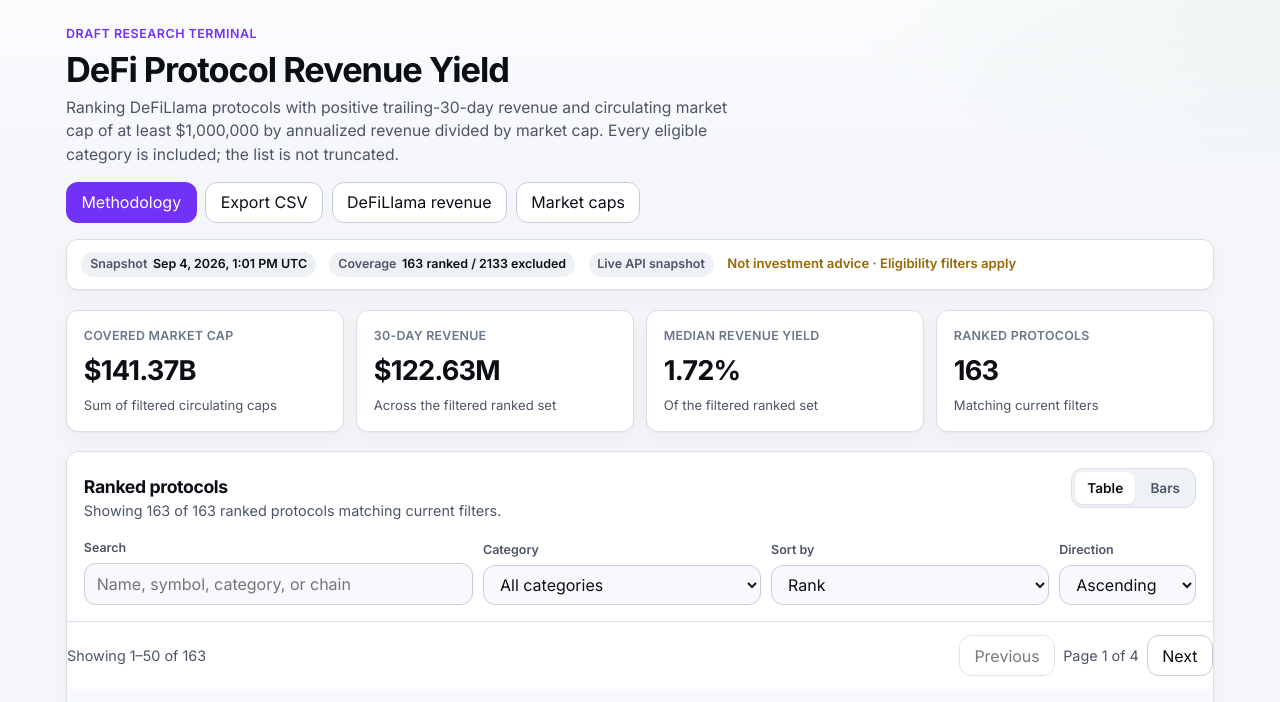
Scenario: App dashboard › applies default sort direction from the sort select
Expected: the text "Live API snapshot" is shown, [588,252,714,277]
Select "Revenue yield" in the dropdown labelled "Sort by" at point(910, 585), box [771,565,1049,605]
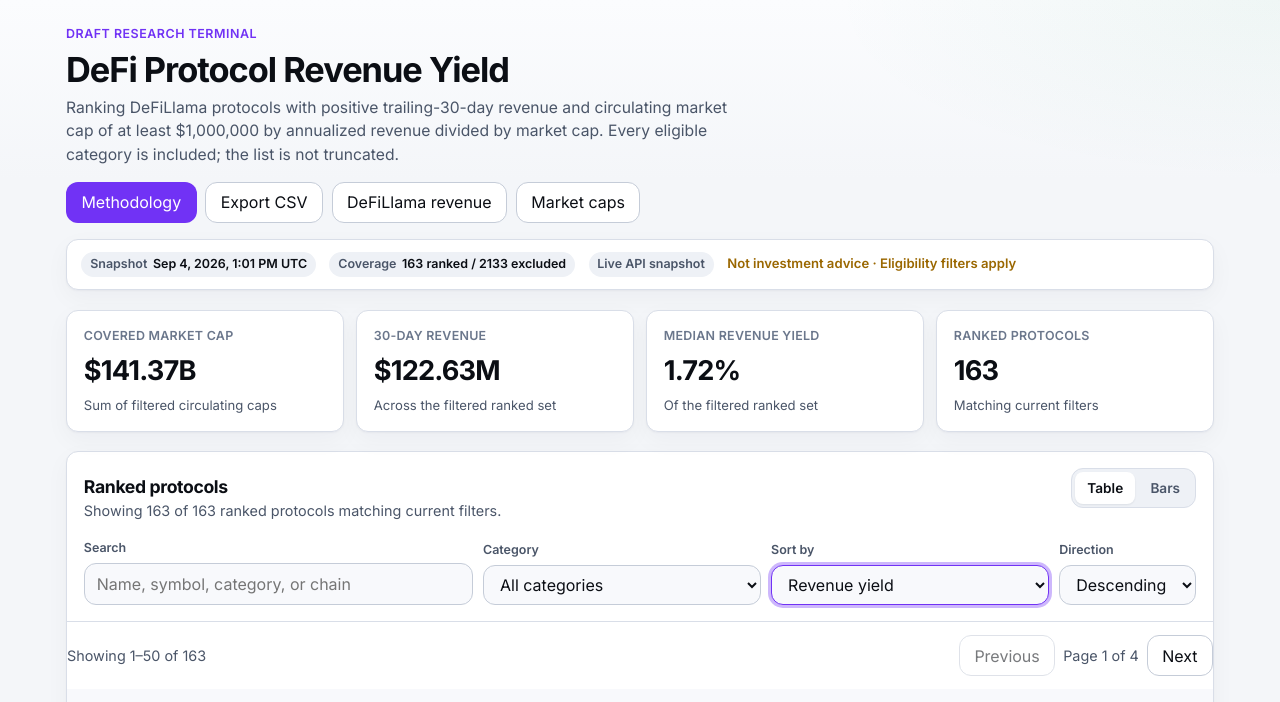
Result: the dropdown labelled "Direction" shows "Descending" at [1059,565,1196,605]
Select "Name" in the dropdown labelled "Sort by" at point(910, 585), box [771,565,1049,605]
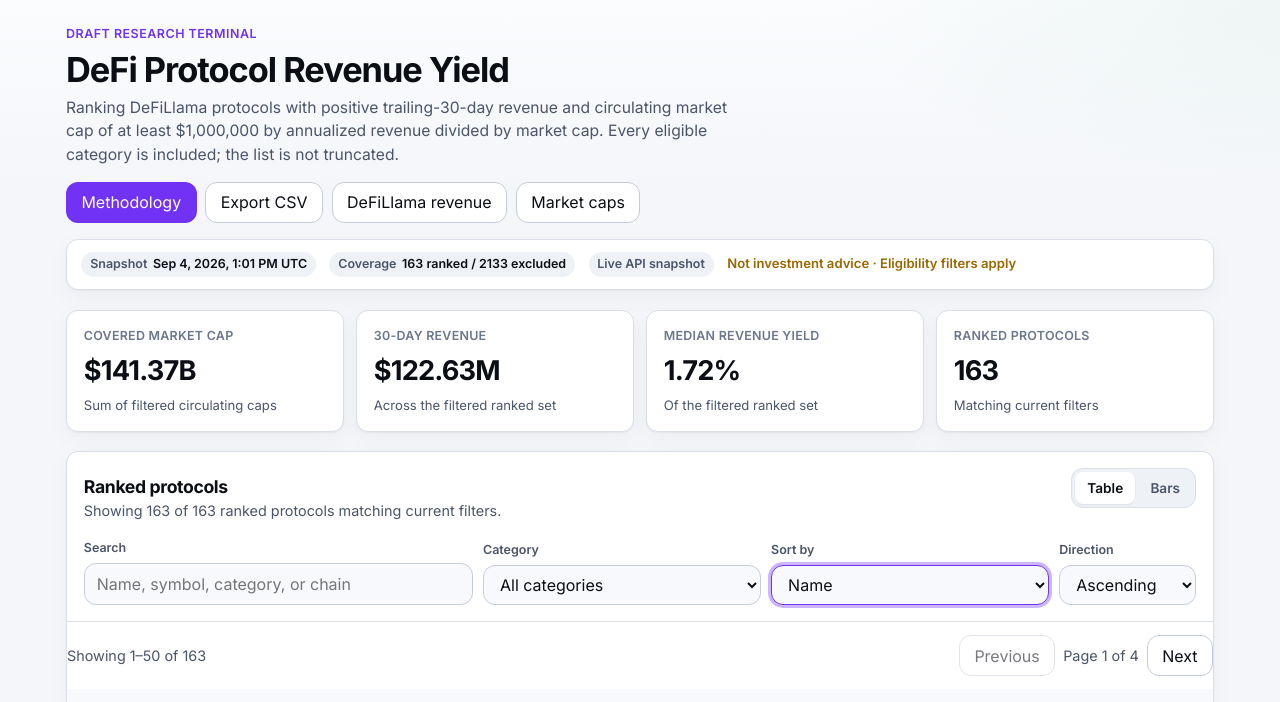
Result: the dropdown labelled "Direction" shows "Ascending" at [1059,565,1196,605]
